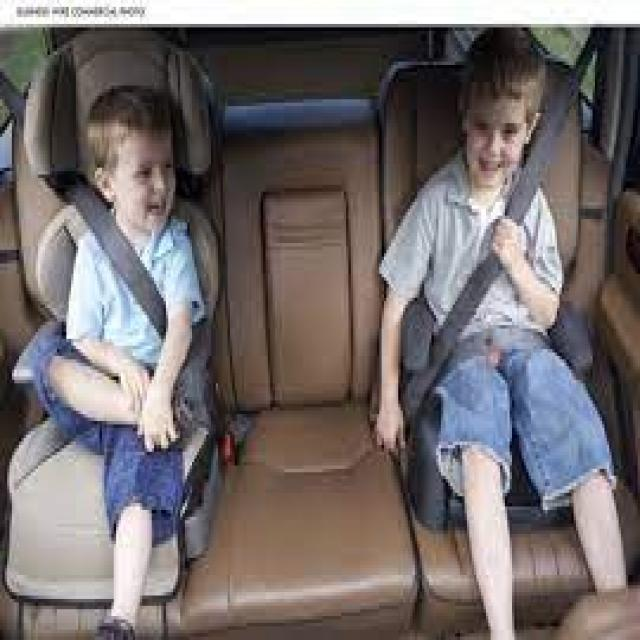seatbelt: (426, 41, 610, 366), (38, 168, 188, 356)
